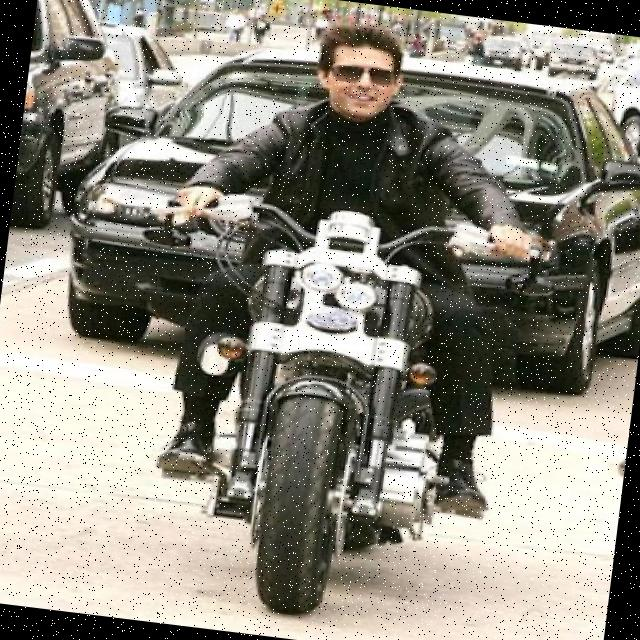No helmet: (312, 20, 411, 123)
